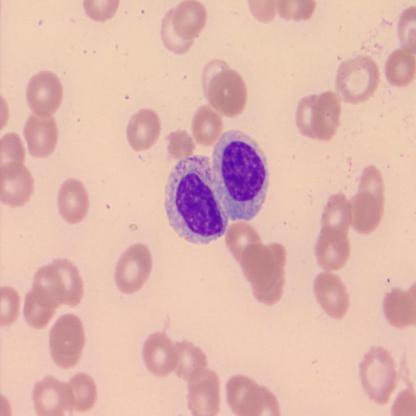Myelocyte: (211, 133, 273, 224), (164, 158, 226, 244)
